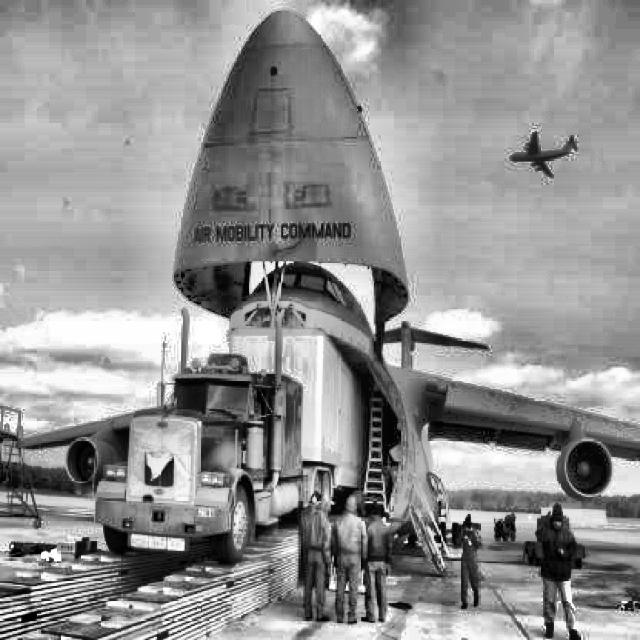C5: (15, 9, 639, 560), (510, 132, 578, 178)
